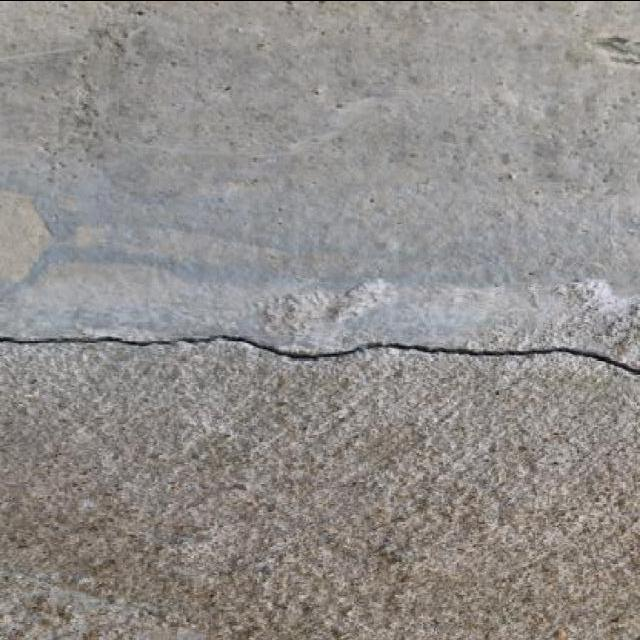crack: (0, 330, 639, 376), (501, 85, 640, 203), (3, 362, 154, 468), (19, 158, 172, 260), (272, 92, 439, 180), (1, 566, 204, 636), (133, 363, 291, 452), (339, 374, 522, 444), (312, 241, 525, 301), (63, 13, 152, 134), (243, 574, 356, 635), (2, 332, 300, 352), (114, 20, 201, 86), (546, 277, 632, 332), (566, 29, 638, 73), (215, 10, 283, 53), (0, 41, 97, 68), (345, 276, 398, 311), (6, 193, 48, 235), (483, 78, 529, 116), (113, 20, 154, 59), (62, 81, 96, 128), (476, 482, 506, 533), (219, 179, 268, 210), (389, 544, 421, 564), (313, 82, 332, 100)
dampens: (16, 241, 65, 290)
